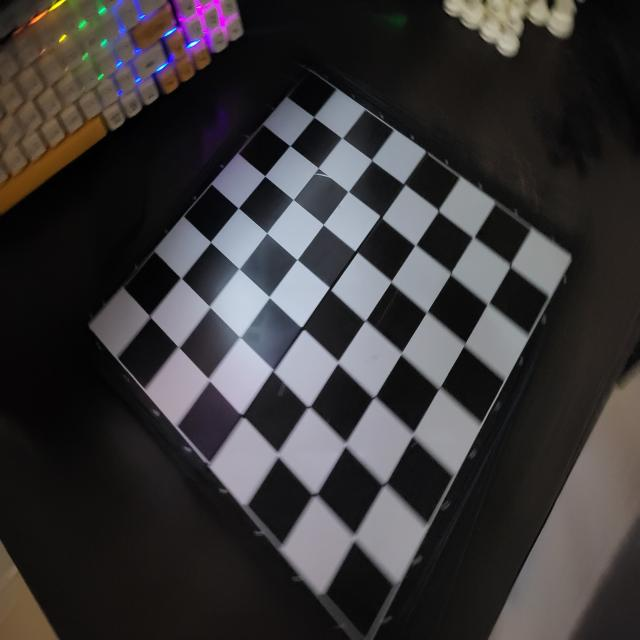chess-board: (86, 72, 586, 630)
